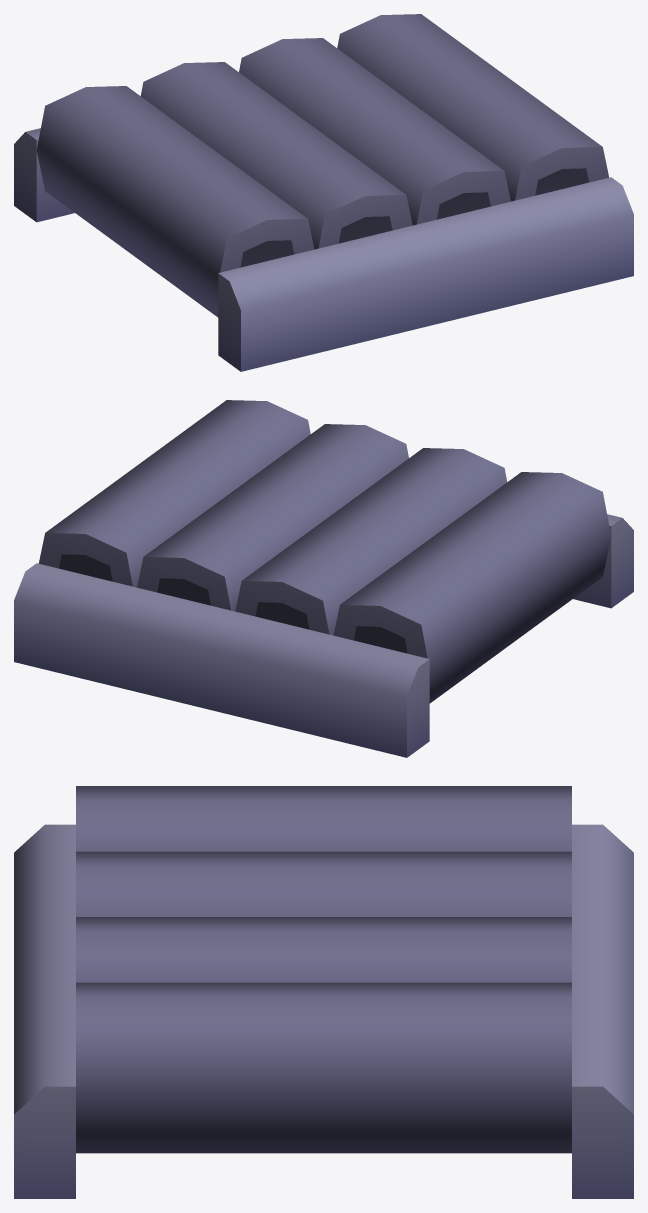
Rendered from conveyor-bars-sides.glb.
3 renders of one model, top to bottom at view 1: azimuth 30°, elevation 25°; view 2: azimuth 150°, elevation 25°; view 3: azimuth 270°, elevation 25°, orthographic. The views are drawn at different scales.
Parts seen in each view (by area): view 1: conveyor-bars-sides; view 2: conveyor-bars-sides; view 3: conveyor-bars-sides.
Part boxes in pixels (box(x1,y1,x2,y2)): conveyor-bars-sides: box(14, 14, 633, 371); conveyor-bars-sides: box(14, 400, 633, 757); conveyor-bars-sides: box(14, 786, 633, 1198).
Size of the model in its own units: 1 by 0.3 by 1.
